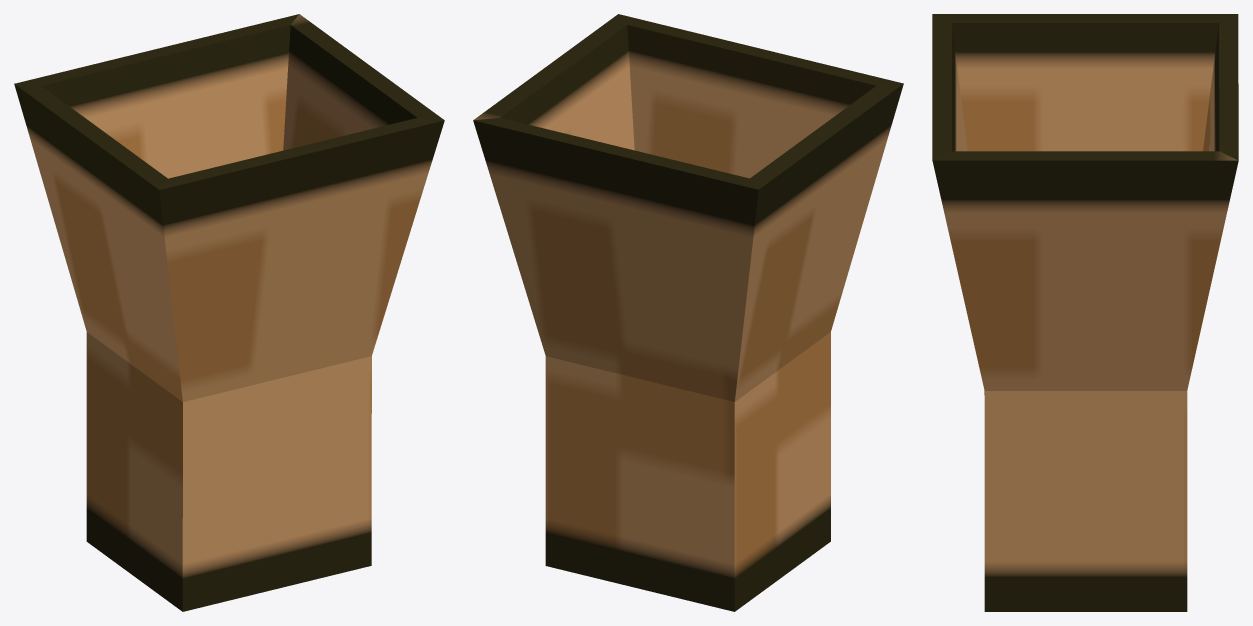
The model's file is BLOCKYGON_CUP.fbx.
3 views of the same model, side by side, from view 1: azimuth 30°, elevation 25°; view 2: azimuth 150°, elevation 25°; view 3: azimuth 270°, elevation 25° (orthographic). The views are drawn at different scales.
Parts seen in each view (by area): view 1: BLOCKYGON_CUP; view 2: BLOCKYGON_CUP; view 3: BLOCKYGON_CUP.
Part boxes in pixels (x1=…): BLOCKYGON_CUP: x1=14, y1=14, x2=444, y2=611; BLOCKYGON_CUP: x1=473, y1=14, x2=903, y2=611; BLOCKYGON_CUP: x1=932, y1=14, x2=1238, y2=611.
Bounding box in the file's own units: 9.97 × 15.08 × 8.8.
Materials: 1 (1 with a texture image).
